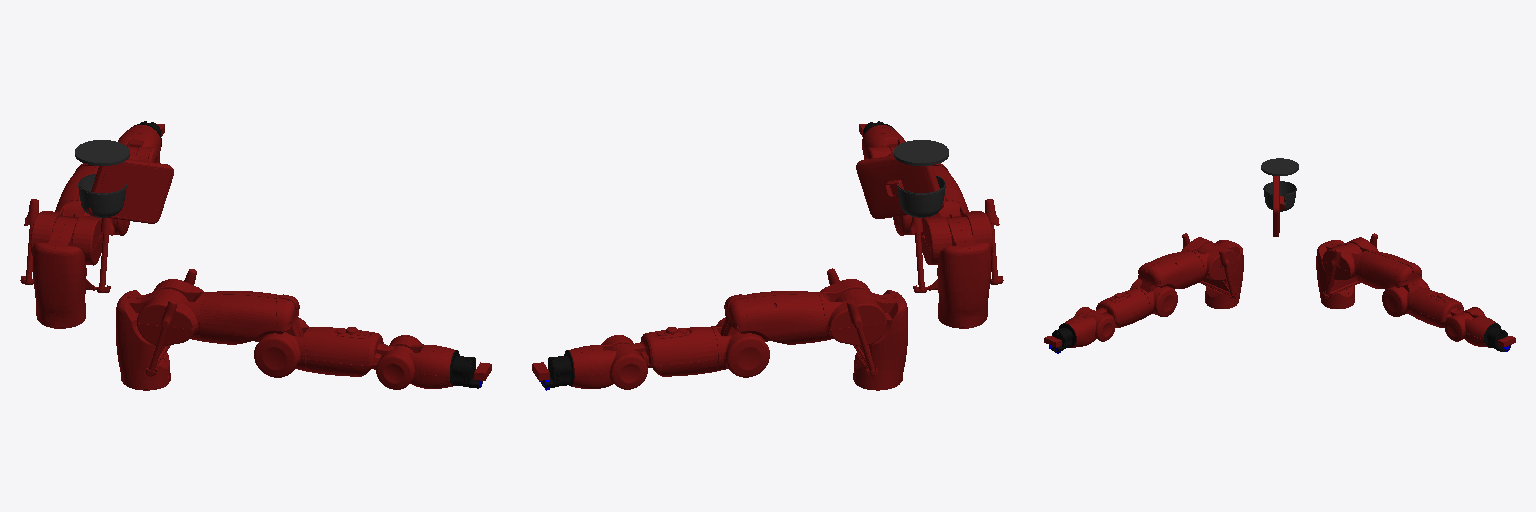
--- Facts derived from the render (not from the file) ---
Views: 3 orthographic renders of the robot side by side, from view 1: azimuth 30°, elevation 25°; view 2: azimuth 150°, elevation 25°; view 3: azimuth 270°, elevation 25°.
Robot: dv — 50 links, 49 joints (15 revolute, 34 fixed); root link base; default pose: all joints at 0.
Links seen in each view (by area): view 1: left_upper_shoulder, right_upper_elbow, right_upper_shoulder, screen, right_upper_forearm, right_lower_forearm, right_lower_shoulder, left_lower_shoulder, right_lower_elbow, head, sonar_ring, left_lower_forearm (+2 smaller); view 2: right_upper_shoulder, left_upper_elbow, left_upper_shoulder, left_upper_forearm, screen, left_lower_forearm, left_lower_shoulder, right_lower_shoulder, left_lower_elbow, sonar_ring, head, right_lower_forearm (+2 smaller); view 3: right_upper_elbow, left_upper_elbow, left_upper_shoulder, right_upper_shoulder, right_upper_forearm, left_upper_forearm, right_lower_forearm, left_lower_forearm, right_lower_shoulder, left_lower_shoulder, right_lower_elbow, left_lower_elbow (+2 smaller).
Boxes of the visible links, x1=… form: left_upper_shoulder: x1=20, y1=199, x2=114, y2=328; right_upper_elbow: x1=199, y1=291, x2=303, y2=344; right_upper_shoulder: x1=116, y1=269, x2=196, y2=390; screen: x1=87, y1=159, x2=173, y2=223; right_upper_forearm: x1=306, y1=327, x2=413, y2=376; right_lower_forearm: x1=376, y1=335, x2=454, y2=389; right_lower_shoulder: x1=137, y1=279, x2=206, y2=345; left_lower_shoulder: x1=31, y1=200, x2=102, y2=265; right_lower_elbow: x1=254, y1=317, x2=312, y2=377; head: x1=78, y1=174, x2=126, y2=217; sonar_ring: x1=75, y1=140, x2=129, y2=165; left_lower_forearm: x1=118, y1=125, x2=160, y2=162; right_upper_shoulder: x1=909, y1=199, x2=1003, y2=328; left_upper_elbow: x1=720, y1=291, x2=824, y2=344; left_upper_shoulder: x1=827, y1=268, x2=907, y2=390; left_upper_forearm: x1=609, y1=327, x2=717, y2=376; screen: x1=856, y1=155, x2=943, y2=218; left_lower_forearm: x1=569, y1=335, x2=647, y2=389; left_lower_shoulder: x1=817, y1=279, x2=886, y2=345; right_lower_shoulder: x1=921, y1=200, x2=992, y2=264; left_lower_elbow: x1=711, y1=317, x2=769, y2=377; sonar_ring: x1=894, y1=140, x2=948, y2=165; head: x1=896, y1=176, x2=945, y2=217; right_lower_forearm: x1=862, y1=125, x2=905, y2=158; right_upper_elbow: x1=1138, y1=251, x2=1203, y2=292; left_upper_elbow: x1=1356, y1=251, x2=1421, y2=292; left_upper_shoulder: x1=1316, y1=233, x2=1377, y2=308; right_upper_shoulder: x1=1182, y1=233, x2=1243, y2=308; right_upper_forearm: x1=1084, y1=288, x2=1149, y2=327; left_upper_forearm: x1=1410, y1=288, x2=1473, y2=327; right_lower_forearm: x1=1065, y1=307, x2=1115, y2=347; left_lower_forearm: x1=1444, y1=307, x2=1497, y2=347; right_lower_shoulder: x1=1181, y1=237, x2=1237, y2=280; left_lower_shoulder: x1=1322, y1=237, x2=1378, y2=281; right_lower_elbow: x1=1130, y1=278, x2=1177, y2=316; left_lower_elbow: x1=1382, y1=278, x2=1429, y2=316.
Size in the robot's own frame: 0.8912 by 2.11 by 0.6706 metres.
16 mesh visuals loaded from 11 distinct referenced files (9 binary STL); not drawn: 2 (reference not matched to a file when rendering).

The robot description file, URDF, robot "dv":
<?xml version="1.0" ?>
<!-- =================================================================================== -->
<!-- |    This document was autogenerated by xacro from dv.urdf.xacro                  | -->
<!-- |    EDITING THIS FILE BY HAND IS NOT RECOMMENDED                                 | -->
<!-- =================================================================================== -->
<robot name="dv" xmlns:controller="http://playerstage.sourceforge.net/gazebo/xmlschema/#controller" xmlns:interface="http://playerstage.sourceforge.net/gazebo/xmlschema/#interface" xmlns:sensor="http://playerstage.sourceforge.net/gazebo/xmlschema/#sensor" xmlns:xacro="http://playerstage.sourceforge.net/gazebo/xmlschema/#interface">
  <link name="base">
    <inertial>
      <origin rpy="0 0 0" xyz="0 0 0"/>
      <mass value="0"/>
      <inertia ixx="0" ixy="0" ixz="0" iyy="0" iyz="0" izz="0"/>
    </inertial>
  </link>
  <link name="torso">
    <visual>
      <origin rpy="0 0 0" xyz="0 0 0"/>
      <geometry>
        <!-- <box size="0.2 0.35 0.4" /> -->
        <mesh filename="package://baxter_description/meshes/torso/base_link.STL"/>
      </geometry>
      <material name="darkgray">
        <color rgba=".2 .2 .2 1"/>
      </material>
    </visual>
    <collision>
      <origin rpy="0 0 0" xyz="-0.065 0 0.0"/>
      <geometry>
        <cylinder length="0.7" radius="0.27"/>
      </geometry>
    </collision>
    <inertial>
      <origin rpy="0 0 0" xyz="0.000000 0.000000 0.000000"/>
      <mass value="0.000000"/>
      <inertia ixx="0" ixy="0" ixz="0" iyy="0" iyz="0" izz="0"/>
    </inertial>
  </link>
  <link name="left_torso_itb">
    <!-- note: invisible -->
    <!--
         <visual>
  	   <origin xyz="0 0 0" rpy="0 0 0" />
           <geometry>
             <box size=".059 0.118  0.032" />
           </geometry>
           <material name="white">
             <color rgba="1 1 1 1" />
           </material>
         </visual>
         -->
  </link>
  <link name="right_torso_itb">
    <!-- note: invisible -->
    <!--
         <visual>
  	   <origin xyz="0 0 0" rpy="0 0 0" />
           <geometry>
             <box size=".059 0.118  0.032" />
           </geometry>
           <material name="white">
             <color rgba="1 1 1 1" />
           </material>
         </visual>
         -->
  </link>
  <link name="pedestal">
    <visual>
      <origin rpy="0 0 0" xyz="0 0 0"/>
      <geometry>
        <mesh filename="package://baxter_description/meshes/base/PEDESTAL.STL"/>
      </geometry>
      <material name="darkgray">
        <color rgba=".2 .2 .2 1"/>
      </material>
    </visual>
    <collision>
      <origin rpy="0 0 0" xyz="0.0 0 0.0"/>
      <geometry>
        <cylinder length="0.7" radius="0.25"/>
      </geometry>
    </collision>
    <inertial>
      <origin rpy="0 0 0" xyz="0 0 0"/>
      <mass value="0"/>
      <inertia ixx="0" ixy="0" ixz="0" iyy="0" iyz="0" izz="0"/>
    </inertial>
  </link>
  <link name="head">
    <visual>
      <origin rpy="0 0 0" xyz="-.03477 0 .00953"/>
      <geometry>
        <!-- <cylinder length="0.04" radius="0.09"/> -->
        <mesh filename="package://baxter_description/meshes/head/H0.STL"/>
      </geometry>
      <material name="darkgray">
        <color rgba=".2 .2 .2 1"/>
      </material>
    </visual>
    <collision>
      <origin rpy="0 0 0" xyz="0.0 0 0.0"/>
      <geometry>
        <sphere radius="0.001"/>
      </geometry>
    </collision>
    <inertial>
      <origin rpy="0 0 0" xyz="0 0 0"/>
      <mass value="0"/>
      <inertia ixx="0" ixy="0" ixz="0" iyy="0" iyz="0" izz="0"/>
    </inertial>
  </link>
  <link name="sonar_ring">
    <visual>
      <origin rpy="0 0 0" xyz="-.0347 0 .00953"/>
      <geometry>
        <cylinder length="0.01" radius="0.085"/>
      </geometry>
      <material name="darkgray">
        <color rgba=".2 .2 .2 1"/>
      </material>
    </visual>
    <collision>
      <origin rpy="0 0 0" xyz="0.0 0 0.0"/>
      <geometry>
        <sphere radius="0.001"/>
      </geometry>
    </collision>
    <inertial>
      <origin rpy="0 0 0" xyz="0 0 0"/>
      <mass value="0"/>
      <inertia ixx="0" ixy="0" ixz="0" iyy="0" iyz="0" izz="0"/>
    </inertial>
  </link>
  <link name="screen">
    <visual>
      <origin rpy="0 -1.571 0" xyz="0 -.00953 -.0347"/>
      <geometry>
        <!-- <box size=".11 0.08  0.01"/> -->
        <mesh filename="package://baxter_description/meshes/head/H1.STL"/>
      </geometry>
      <material name="darkred">
        <color rgba=".5 .1 .1 1"/>
      </material>
    </visual>
    <collision>
      <origin rpy="0 0 0" xyz="0.0 0 0.0"/>
      <geometry>
        <sphere radius="0.001"/>
      </geometry>
    </collision>
    <inertial>
      <origin rpy="0 0 0" xyz="0 0 0"/>
      <mass value="0"/>
      <inertia ixx="0" ixy="0" ixz="0" iyy="0" iyz="0" izz="0"/>
    </inertial>
  </link>
  <link name="head_camera">
    <inertial>
      <origin rpy="0 0 0" xyz="0 0 0"/>
      <mass value="0"/>
      <inertia ixx="0" ixy="0" ixz="0" iyy="0" iyz="0" izz="0"/>
    </inertial>
  </link>
  <link name="dummyhead1">
    <inertial>
      <origin rpy="0 0 0" xyz="0 0 0"/>
      <mass value="0"/>
      <inertia ixx="0" ixy="0" ixz="0" iyy="0" iyz="0" izz="0"/>
    </inertial>
  </link>
  <link name="collision_head_link_1">
    <visual>
      <origin rpy="0 0 0" xyz="0 0 0"/>
      <geometry>
        <sphere radius="0.001"/>
      </geometry>
      <material name="red">
        <color rgba="0.8 0.3 0.3 0.3"/>
      </material>
    </visual>
    <collision>
      <origin rpy="0 0 0.0" xyz="-0.07 -0.04 0.0"/>
      <geometry>
        <!-- <cylinder radius="0.18" length="0.4" /> -->
        <sphere radius="0.22"/>
      </geometry>
    </collision>
    <inertial>
      <origin rpy="0 0 0" xyz="0 0 0"/>
      <mass value="0"/>
      <inertia ixx="0" ixy="0" ixz="0" iyy="0" iyz="0" izz="0"/>
    </inertial>
  </link>
  <link name="collision_head_link_2">
    <visual>
      <origin rpy="0 0 0" xyz="0 0 0"/>
      <geometry>
        <sphere radius="0.001"/>
      </geometry>
      <material name="red">
        <color rgba="0.8 0.3 0.3 0.3"/>
      </material>
    </visual>
    <collision>
      <!-- <origin xyz="0.0 0.03 0.02" rpy="0 0 0" /> -->
      <origin rpy="0 0 0" xyz="-0.07 0.04 0.00"/>
      <geometry>
        <!-- <box size="0.34 0.27 0.14" /> -->
        <sphere radius="0.22"/>
      </geometry>
    </collision>
    <inertial>
      <origin rpy="0 0 0" xyz="0 0 0"/>
      <mass value="0"/>
      <inertia ixx="0" ixy="0" ixz="0" iyy="0" iyz="0" izz="0"/>
    </inertial>
  </link>
  <joint name="collision_head_1" type="fixed">
    <origin rpy="0 0 0" xyz="0.11 0 0.75"/>
    <parent link="base"/>
    <child link="collision_head_link_1"/>
  </joint>
  <joint name="collision_head_2" type="fixed">
    <origin rpy="0 0 0" xyz="0.11 0 0.75"/>
    <parent link="base"/>
    <child link="collision_head_link_2"/>
  </joint>
  <joint name="dummy" type="fixed">
    <origin rpy="0 0 0" xyz="0 0 0"/>
    <parent link="head"/>
    <child link="dummyhead1"/>
  </joint>
  <joint name="torso_t0" type="fixed">
    <origin rpy="0 0 0" xyz="0 0 0"/>
    <parent link="base"/>
    <child link="torso"/>
    <limit effort="50000" lower="-3.01" upper="3.01" velocity="10000"/>
  </joint>
  <joint name="left_torso_itb_fixed" type="fixed">
    <origin rpy="-1.571 3.1415 0" xyz="-0.08897 0.15593 0.389125"/>
    <parent link="torso"/>
    <child link="left_torso_itb"/>
  </joint>
  <joint name="right_torso_itb_fixed" type="fixed">
    <origin rpy="1.571 0 0" xyz="-0.08897 -0.15593 0.389125"/>
    <parent link="torso"/>
    <child link="right_torso_itb"/>
  </joint>
  <joint name="pedestal_fixed" type="fixed">
    <origin rpy="0 0 0" xyz="0.0 0.0 0.0"/>
    <parent link="torso"/>
    <child link="pedestal"/>
  </joint>
  <joint name="head_pan" type="revolute">
    <origin rpy="0 0 0" xyz="0.0947 0 0.686"/>
    <axis xyz="0 0 1"/>
    <parent link="torso"/>
    <child link="head"/>
    <limit effort="50000" lower="-1.571" upper="1.571" velocity="10000"/>
    <dynamics damping="0.0" friction="0.0"/>
  </joint>
  <joint name="head_nod" type="fixed">
    <origin rpy="1.9198622 0.0 1.571" xyz=".088 0.0 0.0"/>
    <parent link="head"/>
    <child link="screen"/>
  </joint>
  <joint name="head_camera" type="fixed">
    <origin rpy="1.9198622 0.0 1.571" xyz="0.12839 0.0 0.06368"/>
    <parent link="head"/>
    <child link="head_camera"/>
  </joint>
  <joint name="sonar_s0" type="fixed">
    <origin rpy="0 0 0" xyz="0.0947 0 .817"/>
    <axis xyz="0 0 1"/>
    <parent link="torso"/>
    <child link="sonar_ring"/>
  </joint>
  <link name="right_arm_mount">
    <!-- all defaults -->
  </link>
  <link name="right_upper_shoulder">
    <visual>
      <origin rpy="0 0 0" xyz="0 0 0"/>
      <geometry>
        <!-- <cylinder radius="0.06" length="0.2722" /> -->
        <mesh filename="package://baxter_description/meshes/upper_shoulder/S0.STL"/>
      </geometry>
      <material name="darkred">
        <color rgba=".5 .1 .1 1"/>
      </material>
    </visual>
    <collision>
      <origin rpy="0 0 0" xyz="0 0 0"/>
      <geometry>
        <cylinder length="0.22" radius="0.15"/>
      </geometry>
    </collision>
    <inertial>
      <origin rpy="0 0 0" xyz="0.01783 0.00086 0.19127"/>
      <mass value="5.70044"/>
      <inertia ixx="0.04709102262" ixy="0.00012787556" ixz="0.00614870039" iyy="0.03766976455" iyz="0.00078086899" izz="0.03595988478"/>
    </inertial>
  </link>
  <link name="right_lower_shoulder">
    <visual>
      <origin rpy="0 0 0" xyz="0 0 0"/>
      <geometry>
        <!-- <cylinder radius="0.06" length="0.12" /> -->
        <mesh filename="package://baxter_description/meshes/lower_shoulder/S1.STL"/>
      </geometry>
      <material name="darkred">
        <color rgba=".5 .1 .1 1"/>
      </material>
    </visual>
    <inertial>
      <origin rpy="0 0 0" xyz="0.06845 0.00269 -0.00529"/>
      <mass value="3.22698"/>
      <inertia ixx="0.01175209419" ixy="-0.00030096398" ixz="0.00207675762" iyy="0.0278859752" iyz="-0.00018821993" izz="0.02078749298"/>
    </inertial>
  </link>
  <link name="right_upper_elbow">
    <visual>
      <origin rpy="0 0 0" xyz="0 0 0"/>
      <geometry>
        <!-- <cylinder radius="0.06" length="0.107" /> -->
        <mesh filename="package://baxter_description/meshes/upper_elbow/E0.STL"/>
      </geometry>
      <material name="darkred">
        <color rgba=".5 .1 .1 1"/>
      </material>
    </visual>
    <collision>
      <origin rpy="0 0 0" xyz="0 0 0"/>
      <geometry>
        <cylinder length="0.05" radius="0.14"/>
      </geometry>
    </collision>
    <inertial>
      <origin rpy="0 0 0" xyz="-0.00276 0.00132 0.18086"/>
      <mass value="4.31272"/>
      <inertia ixx="0.02661733557" ixy="0.00029270634" ixz="0.00392189887" iyy="0.02844355207" iyz="0.0010838933" izz="0.01248008322"/>
    </inertial>
  </link>
  <link name="right_upper_elbow_visual">
    <collision>
      <origin rpy="0 0 0" xyz="0 0 0.1965"/>
      <geometry>
        <cylinder length="0.03" radius="0.12"/>
      </geometry>
    </collision>
  </link>
  <link name="right_lower_elbow">
    <visual>
      <origin rpy="0 0 0" xyz="0 0 0"/>
      <geometry>
        <!-- <cylinder radius="0.06" length="0.10" /> -->
        <mesh filename="package://baxter_description/meshes/lower_elbow/E1.STL"/>
      </geometry>
      <material name="darkred">
        <color rgba=".5 .1 .1 1"/>
      </material>
    </visual>
    <collision>
      <origin rpy="0 0 0" xyz="-0.06 0.0 0.0"/>
      <geometry>
        <sphere radius="0.12"/>
      </geometry>
    </collision>
    <inertial>
      <origin rpy="0 0 0" xyz="0.02611 0.00159 -0.01117"/>
      <mass value="2.07206"/>
      <inertia ixx="0.00711582686" ixy="0.00036036173" ixz="0.0007459496" iyy="0.01318227876" iyz="-0.00019663418" izz="0.00926852064"/>
    </inertial>
  </link>
  <link name="right_lower_elbow_highspeed_collision">
    <visual>
      <origin rpy="0 0 0" xyz="0 0 0"/>
      <geometry>
        <cylinder length="0.001" radius="0.001"/>
      </geometry>
      <material name="darkred">
        <color rgba=".5 .1 .1 1"/>
      </material>
    </visual>
    <collision>
      <origin rpy="0 0 0" xyz="0.0 0.0 0.0"/>
      <geometry>
        <sphere radius="0.2"/>
      </geometry>
    </collision>
    <inertial>
      <origin rpy="0 0 0" xyz="0.0 0.0 0.0"/>
      <mass value="0.0"/>
      <inertia ixx="0" ixy="0" ixz="0" iyy="0" iyz="0" izz="0"/>
    </inertial>
  </link>
  <link name="right_upper_forearm">
    <visual>
      <origin rpy="0 0 0" xyz="0 0 0"/>
      <geometry>
        <!-- <cylinder radius="0.06" length="0.088" /> -->
        <mesh filename="package://baxter_description/meshes/upper_forearm/W0.STL"/>
      </geometry>
      <material name="darkred">
        <color rgba=".5 .1 .1 1"/>
      </material>
    </visual>
    <inertial>
      <origin rpy="0 0 0" xyz="-0.00168 0.0046 0.13952"/>
      <mass value="2.24665"/>
      <inertia ixx="0.01667742825" ixy="0.00018403705" ixz="0.00018657629" iyy="0.01675457264" iyz="-0.00064732352" izz="0.0037463115"/>
    </inertial>
  </link>
  <link name="right_upper_forearm_visual">
    <collision>
      <origin rpy="0 0 0" xyz="0 0 0.10"/>
      <geometry>
        <cylinder length="0.12" radius="0.12"/>
      </geometry>
    </collision>
  </link>
  <link name="right_arm_itb">
    <!-- note: invisible -->
    <!--
         <visual>
  	   <origin xyz="0 0 0" rpy="0 0 0" />
           <geometry>
             <box size=".059 0.118  0.032" />
           </geometry>
           <material name="white">
             <color rgba="1 1 1 1" />
           </material>
         </visual>
         -->
  </link>
  <link name="right_lower_forearm">
    <visual>
      <origin rpy="0 0 0" xyz="0 0 0"/>
      <geometry>
        <!-- <cylinder radius="0.06" length="0.10" /> -->
        <mesh filename="package://baxter_description/meshes/lower_forearm/W1.STL"/>
      </geometry>
      <material name="darkred">
        <color rgba=".5 .1 .1 1"/>
      </material>
    </visual>
    <collision>
      <origin rpy="0 0 0" xyz="0 0 0"/>
      <geometry>
        <cylinder length="0.01" radius="0.12"/>
      </geometry>
    </collision>
    <inertial>
      <origin rpy="0 0 0" xyz="0.06041 0.00697 0.006"/>
      <mass value="1.60979"/>
      <inertia ixx="0.00387607152" ixy="-0.00044384784" ixz="-0.00021115038" iyy="0.00700537914" iyz="0.00015348067" izz="0.0055275524"/>
    </inertial>
  </link>
  <link name="right_lower_forearm_highspeed_collision">
    <visual>
      <origin rpy="0 0 0" xyz="0 0 0"/>
      <geometry>
        <cylinder length="0.001" radius="0.001"/>
      </geometry>
      <material name="darkred">
        <color rgba=".5 .1 .1 1"/>
      </material>
    </visual>
    <collision>
      <origin rpy="0 0 0" xyz="0 0 0"/>
      <geometry>
        <cylinder length="0.01" radius="0.2"/>
      </geometry>
    </collision>
    <inertial>
      <origin rpy="0 0 0" xyz="0.0 0.0 0.0"/>
      <mass value="0.0"/>
      <inertia ixx="0" ixy="0" ixz="0" iyy="0" iyz="0" izz="0"/>
    </inertial>
  </link>
  <link name="right_wrist">
    <visual>
      <origin rpy="0 0 0" xyz="0 0 0"/>
      <geometry>
        <!-- <cylinder radius="0.06" length="0.165" /> -->
        <mesh filename="package://baxter_description/meshes/wrist/W2.STL"/>
      </geometry>
      <material name="lightgrey">
        <color rgba=".1 .1 .1 1"/>
      </material>
    </visual>
    <collision>
      <origin rpy="0 0 0" xyz="0 0 0"/>
      <geometry>
        <cylinder length="0.04" radius="0.12"/>
      </geometry>
    </collision>
    <inertial>
      <origin rpy="0 0 0" xyz="0.00198 0.00125 0.01855"/>
      <mass value="0.35093"/>
      <inertia ixx="0.00025289155" ixy="0.00000575311" ixz="-0.00000159345" iyy="0.0002688601" iyz="-0.00000519818" izz="0.0003074118"/>
    </inertial>
  </link>
  <link name="right_wrist_highspeed_collision">
    <visual>
      <origin rpy="0 0 0" xyz="0 0 -0.0825"/>
      <geometry>
        <cylinder length="0.001" radius="0.001"/>
      </geometry>
      <material name="darkred">
        <color rgba=".5 .1 .1 1"/>
      </material>
    </visual>
    <collision>
      <origin rpy="0 0 0" xyz="0 0 0"/>
      <geometry>
        <cylinder length="0.04" radius="0.2"/>
      </geometry>
    </collision>
    <inertial>
      <origin rpy="0 0 0" xyz="0.0 0.0 0.0"/>
      <mass value="0.0"/>
      <inertia ixx="0" ixy="0" ixz="0" iyy="0" iyz="0" izz="0"/>
    </inertial>
  </link>
  <link name="right_hand">
    <!-- rendered in the mesh
      <visual>
        <origin xyz="0 0 -0.0232" rpy="0 0 0" />
        <geometry>
          <cylinder radius="0.04" length="0.0464" />
        </geometry>
        <material name="darkred">
          <color rgba=".5 .1 .1 1" />
        </material>
      </visual>
      -->
    <collision>
      <origin rpy="0 0 0" xyz="0 0 -0.0232 "/>
      <geometry>
        <cylinder length="0.04" radius="0.1"/>
      </geometry>
    </collision>
    <inertial>
      <origin rpy="0 0 0" xyz="0.01093 0.00042 -0.01532"/>
      <mass value="0.19125"/>
      <inertia ixx="0.00017588" ixy="0.00000147073" ixz="0.0000243633" iyy="0.00021166377" iyz="0.00000172689" izz="0.00023745397"/>
    </inertial>
  </link>
  <link name="right_hand_camera">
    <visual>
      <origin rpy="0 0 0" xyz="0 0 0"/>
      <geometry>
        <cylinder length="0.01" radius="0.02"/>
      </geometry>
      <material name="blue">
        <color rgba="0 0 1 0.8"/>
      </material>
    </visual>
    <inertial>
      <origin rpy="0 0 0" xyz="0 0 0"/>
      <mass value="0"/>
      <inertia ixx="0" ixy="0" ixz="0" iyy="0" iyz="0" izz="0"/>
    </inertial>
  </link>
  <link name="right_hand_camera_axis">
    <!--visual>
        <origin xyz="0 0 0" rpy="0 0 0" />
        <geometry>
          <cylinder radius="0.02" length="0.01" />
        </geometry>
        <material name="blue">
          <color rgba="0 0 1 0.8" />
        </material>
      </visual-->
    <inertial>
      <origin rpy="0 0 0" xyz="0 0 0"/>
      <mass value="0"/>
      <inertia ixx="0" ixy="0" ixz="0" iyy="0" iyz="0" izz="0"/>
    </inertial>
  </link>
  <link name="right_hand_range">
    <visual>
      <origin rpy="0 0 0" xyz="0 0 0"/>
      <geometry>
        <box size="0.005 .02 .005"/>
      </geometry>
      <material name="blue">
        <color rgba="0 0 1 0.8"/>
      </material>
    </visual>
    <inertial>
      <origin rpy="0 0 0" xyz="0 0 0"/>
      <mass value="0"/>
      <inertia ixx="0" ixy="0" ixz="0" iyy="0" iyz="0" izz="0"/>
    </inertial>
  </link>
  <link name="right_gripper">
    <visual>
      <origin rpy="0 0 0" xyz="0 0 -0.02"/>
      <geometry>
        <box size="0.025 0.075 0.035"/>
      </geometry>
      <material name="darkred">
        <color rgba=".5 .1 .1 1"/>
      </material>
    </visual>
    <inertial>
      <origin rpy="0 0 0" xyz="0.000000 0.000000 0.000000"/>
      <mass value="0.0"/>
      <inertia ixx="0" ixy="0" ixz="0" iyy="0" iyz="0" izz="0"/>
    </inertial>
  </link>
  <joint name="right_torso_arm_mount" type="fixed">
    <origin rpy="0 0 -0.7854" xyz="0.024645 -0.219645 0.118588"/>
    <parent link="torso"/>
    <child link="right_arm_mount"/>
  </joint>
  <joint name="right_s0" type="revolute">
    <origin rpy="0 0 0" xyz="0.055695 0 0.011038"/>
    <axis xyz="0 0 1"/>
    <parent link="right_arm_mount"/>
    <child link="right_upper_shoulder"/>
    <limit effort="60.0" lower="-1.70167993878" upper="1.70167993878" velocity="2.5"/>
    <dynamics damping="0.0" friction="0.0"/>
  </joint>
  <joint name="right_s1" type="revolute">
    <origin rpy="-1.571 0 0" xyz="0.069 0 0.27035"/>
    <axis xyz="0 0 1"/>
    <parent link="right_upper_shoulder"/>
    <child link="right_lower_shoulder"/>
    <limit effort="60.0" lower="-2.147" upper="1.047" velocity="2.5"/>
    <dynamics damping="0.0" friction="0.0"/>
  </joint>
  <joint name="right_e0" type="revolute">
    <origin rpy="1.571 0 1.571" xyz="0.102 0 0"/>
    <axis xyz="0 0 1"/>
    <parent link="right_lower_shoulder"/>
    <child link="right_upper_elbow"/>
    <limit effort="60.0" lower="-3.05417993878" upper="3.05417993878" velocity="2.5"/>
    <dynamics damping="0.0" friction="0.0"/>
  </joint>
  <joint name="right_e0_fixed" type="fixed">
    <origin rpy="1.571 0 1.571" xyz="0.107 0 0"/>
    <axis xyz="0 0 1"/>
    <parent link="right_lower_shoulder"/>
    <child link="right_upper_elbow_visual"/>
  </joint>
  <joint name="right_e1" type="revolute">
    <origin rpy="-1.571 -1.571 0" xyz="0.069 0 0.26242"/>
    <axis xyz="0 0 1"/>
    <parent link="right_upper_elbow"/>
    <child link="right_lower_elbow"/>
    <limit effort="60.0" lower="-0.05" upper="2.618" velocity="2.5"/>
    <dynamics damping="0.0" friction="0.0"/>
  </joint>
  <joint name="right_e1_fixed" type="fixed">
    <origin rpy="-1.571 -1.3819 0" xyz="0.069 0 0.25386"/>
    <axis xyz="0 0 1"/>
    <parent link="right_upper_elbow"/>
    <child link="right_lower_elbow_highspeed_collision"/>
  </joint>
  <joint name="right_w0" type="revolute">
    <origin rpy="1.571 0 1.571" xyz="0.10359 0 0"/>
    <axis xyz="0 0 1"/>
    <parent link="right_lower_elbow"/>
    <child link="right_upper_forearm"/>
    <limit effort="20.0" lower="-3.059" upper="3.059" velocity="5.0"/>
    <dynamics damping="0.0" friction="0.0"/>
  </joint>
  <joint name="right_w0_fixed" type="fixed">
    <origin rpy="1.571 0 1.571" xyz="0.088 0 0"/>
    <axis xyz="0 0 1"/>
    <parent link="right_lower_elbow"/>
    <child link="right_upper_forearm_visual"/>
  </joint>
  <joint name="right_w0_to_itb_fixed" type="fixed">
    <!-- <origin xyz="-0.0565 0 0.1301" rpy="-1.571 0 1.571" /> -->
    <origin rpy="-1.571 0 1.571" xyz="-0.0565 0 0.12"/>
    <axis xyz="0 0 1"/>
    <parent link="right_upper_forearm"/>
    <child link="right_arm_itb"/>
  </joint>
  <joint name="right_w1" type="revolute">
    <origin rpy="-1.571 -1.571 0" xyz="0.01 0 0.2707"/>
    <axis xyz="0 0 1"/>
    <parent link="right_upper_forearm"/>
    <child link="right_lower_forearm"/>
    <limit effort="20.0" lower="-1.571" upper="2.094" velocity="5.0"/>
    <dynamics damping="0.0" friction="0.0"/>
  </joint>
  <joint name="right_w1_fixed" type="fixed">
    <origin rpy="-1.571 -1.571 0" xyz="0.01 0 0.27186"/>
    <axis xyz="0 0 1"/>
    <parent link="right_upper_forearm"/>
    <child link="right_lower_forearm_highspeed_collision"/>
  </joint>
  <joint name="right_w2" type="revolute">
    <origin rpy="1.571 0 1.571" xyz="0.115975 0 0"/>
    <axis xyz="0 0 1"/>
    <parent link="right_lower_forearm"/>
    <child link="right_wrist"/>
    <limit effort="20.0" lower="-3.059" upper="3.059" velocity="5.0"/>
    <dynamics damping="0.0" friction="0.0"/>
  </joint>
  <joint name="right_w2_fixed" type="fixed">
    <origin rpy="1.571 0 1.571" xyz="0.16555 0 0"/>
    <axis xyz="0 0 1"/>
    <parent link="right_lower_forearm"/>
    <child link="right_wrist_highspeed_collision"/>
  </joint>
  <joint name="right_hand" type="fixed">
    <origin rpy="0 0 0" xyz="0 0 0.11355"/>
    <axis xyz="0 0 1"/>
    <parent link="right_wrist"/>
    <child link="right_hand"/>
    <dynamics damping="0.0" friction="0.0"/>
  </joint>
  <joint name="right_hand_camera" type="fixed">
    <origin rpy="0 0 -1.57079633" xyz="0.03825 0.012 0.015355"/>
    <parent link="right_hand"/>
    <child link="right_hand_camera"/>
  </joint>
  <joint name="right_hand_camera_axis" type="fixed">
    <origin rpy="0 0 0" xyz="0.03825 0.012 0.015355"/>
    <parent link="right_hand"/>
    <child link="right_hand_camera_axis"/>
  </joint>
  <joint name="right_hand_range" type="fixed">
    <origin rpy="0 -1.571 -1.571" xyz="0.032 -0.020245 0.0288"/>
    <parent link="right_hand"/>
    <child link="right_hand_range"/>
  </joint>
  <joint name="right_endpoint" type="fixed">
    <origin rpy="0 0 0" xyz="0.0 0 0.05"/>
    <parent link="right_hand"/>
    <child link="right_gripper"/>
  </joint>
  <link name="left_arm_mount">
    <!-- all defaults -->
  </link>
  <link name="left_upper_shoulder">
    <visual>
      <origin rpy="0 0 0" xyz="0 0 0"/>
      <geometry>
        <!-- <cylinder radius="0.06" length="0.2722" /> -->
        <mesh filename="package://baxter_description/meshes/upper_shoulder/S0.STL"/>
      </geometry>
      <material name="darkred">
        <color rgba=".5 .1 .1 1"/>
      </material>
    </visual>
    <collision>
      <origin rpy="0 0 0" xyz="0 0 0"/>
      <geometry>
        <cylinder length="0.22" radius="0.15"/>
      </geometry>
    </collision>
    <inertial>
      <origin rpy="0 0 0" xyz="0.01783 0.00086 0.19127"/>
      <mass value="5.70044"/>
      <inertia ixx="0.04709102262" ixy="0.00012787556" ixz="0.00614870039" iyy="0.03766976455" iyz="0.00078086899" izz="0.03595988478"/>
    </inertial>
  </link>
  <link name="left_lower_shoulder">
    <visual>
      <origin rpy="0 0 0" xyz="0 0 0"/>
      <geometry>
        <!-- <cylinder radius="0.06" length="0.12" /> -->
        <mesh filename="package://baxter_description/meshes/lower_shoulder/S1.STL"/>
      </geometry>
      <material name="darkred">
        <color rgba=".5 .1 .1 1"/>
      </material>
    </visual>
    <inertial>
      <origin rpy="0 0 0" xyz="0.06845 0.00269 -0.00529"/>
      <mass value="3.22698"/>
      <inertia ixx="0.01175209419" ixy="-0.00030096398" ixz="0.00207675762" iyy="0.0278859752" iyz="-0.00018821993" izz="0.02078749298"/>
    </inertial>
  </link>
  <link name="left_upper_elbow">
    <visual>
      <origin rpy="0 0 0" xyz="0 0 0"/>
      <geometry>
        <!-- <cylinder radius="0.06" length="0.107" /> -->
        <mesh filename="package://baxter_description/meshes/upper_elbow/E0.STL"/>
      </geometry>
      <material name="darkred">
        <color rgba=".5 .1 .1 1"/>
      </material>
    </visual>
    <collision>
      <origin rpy="0 0 0" xyz="0 0 0"/>
      <geometry>
        <cylinder length="0.05" radius="0.14"/>
      </geometry>
    </collision>
    <inertial>
      <origin rpy="0 0 0" xyz="-0.00276 0.00132 0.18086"/>
      <mass value="4.31272"/>
      <inertia ixx="0.02661733557" ixy="0.00029270634" ixz="0.00392189887" iyy="0.02844355207" iyz="0.0010838933" izz="0.01248008322"/>
    </inertial>
  </link>
  <link name="left_upper_elbow_visual">
    <collision>
      <origin rpy="0 0 0" xyz="0 0 0.1965"/>
      <geometry>
        <cylinder length="0.03" radius="0.12"/>
      </geometry>
    </collision>
  </link>
  <link name="left_lower_elbow">
    <visual>
      <origin rpy="0 0 0" xyz="0 0 0"/>
      <geometry>
        <!-- <cylinder radius="0.06" length="0.10" /> -->
        <mesh filename="package://baxter_description/meshes/lower_elbow/E1.STL"/>
      </geometry>
      <material name="darkred">
        <color rgba=".5 .1 .1 1"/>
      </material>
    </visual>
    <collision>
      <origin rpy="0 0 0" xyz="-0.06 0.0 0.0"/>
      <geometry>
        <sphere radius="0.12"/>
      </geometry>
    </collision>
    <inertial>
      <origin rpy="0 0 0" xyz="0.02611 0.00159 -0.01117"/>
      <mass value="2.07206"/>
      <inertia ixx="0.00711582686" ixy="0.00036036173" ixz="0.0007459496" iyy="0.01318227876" iyz="-0.00019663418" izz="0.00926852064"/>
    </inertial>
  </link>
  <link name="left_lower_elbow_highspeed_collision">
    <visual>
      <origin rpy="0 0 0" xyz="0 0 0"/>
      <geometry>
        <cylinder length="0.001" radius="0.001"/>
      </geometry>
      <material name="darkred">
        <color rgba=".5 .1 .1 1"/>
      </material>
    </visual>
    <collision>
      <origin rpy="0 0 0" xyz="0.0 0.0 0.0"/>
      <geometry>
        <sphere radius="0.2"/>
      </geometry>
    </collision>
    <inertial>
      <origin rpy="0 0 0" xyz="0.0 0.0 0.0"/>
      <mass value="0.0"/>
      <inertia ixx="0" ixy="0" ixz="0" iyy="0" iyz="0" izz="0"/>
    </inertial>
  </link>
  <link name="left_upper_forearm">
    <visual>
      <origin rpy="0 0 0" xyz="0 0 0"/>
      <geometry>
        <!-- <cylinder radius="0.06" length="0.088" /> -->
        <mesh filename="package://baxter_description/meshes/upper_forearm/W0.STL"/>
      </geometry>
      <material name="darkred">
        <color rgba=".5 .1 .1 1"/>
      </material>
    </visual>
    <inertial>
      <origin rpy="0 0 0" xyz="-0.00168 0.0046 0.13952"/>
      <mass value="2.24665"/>
      <inertia ixx="0.01667742825" ixy="0.00018403705" ixz="0.00018657629" iyy="0.01675457264" iyz="-0.00064732352" izz="0.0037463115"/>
    </inertial>
  </link>
  <link name="left_upper_forearm_visual">
    <collision>
      <origin rpy="0 0 0" xyz="0 0 0.10"/>
      <geometry>
        <cylinder length="0.12" radius="0.12"/>
      </geometry>
    </collision>
  </link>
  <link name="left_arm_itb">
    <!-- note: invisible -->
    <!--
         <visual>
  	   <origin xyz="0 0 0" rpy="0 0 0" />
           <geometry>
             <box size=".059 0.118  0.032" />
           </geometry>
           <material name="white">
             <color rgba="1 1 1 1" />
           </material>
         </visual>
         -->
  </link>
  <link name="left_lower_forearm">
    <visual>
      <origin rpy="0 0 0" xyz="0 0 0"/>
      <geometry>
        <!-- <cylinder radius="0.06" length="0.10" /> -->
        <mesh filename="package://baxter_description/meshes/lower_forearm/W1.STL"/>
      </geometry>
      <material name="darkred">
        <color rgba=".5 .1 .1 1"/>
      </material>
    </visual>
    <collision>
      <origin rpy="0 0 0" xyz="0 0 0"/>
      <geometry>
        <cylinder length="0.01" radius="0.12"/>
      </geometry>
    </collision>
    <inertial>
      <origin rpy="0 0 0" xyz="0.06041 0.00697 0.006"/>
      <mass value="1.60979"/>
      <inertia ixx="0.00387607152" ixy="-0.00044384784" ixz="-0.00021115038" iyy="0.00700537914" iyz="0.00015348067" izz="0.0055275524"/>
    </inertial>
  </link>
  <link name="left_lower_forearm_highspeed_collision">
    <visual>
      <origin rpy="0 0 0" xyz="0 0 0"/>
      <geometry>
        <cylinder length="0.001" radius="0.001"/>
      </geometry>
      <material name="darkred">
        <color rgba=".5 .1 .1 1"/>
      </material>
    </visual>
    <collision>
      <origin rpy="0 0 0" xyz="0 0 0"/>
      <geometry>
        <cylinder length="0.01" radius="0.2"/>
      </geometry>
    </collision>
    <inertial>
      <origin rpy="0 0 0" xyz="0.0 0.0 0.0"/>
      <mass value="0.0"/>
      <inertia ixx="0" ixy="0" ixz="0" iyy="0" iyz="0" izz="0"/>
    </inertial>
  </link>
  <link name="left_wrist">
    <visual>
      <origin rpy="0 0 0" xyz="0 0 0"/>
      <geometry>
        <!-- <cylinder radius="0.06" length="0.165" /> -->
        <mesh filename="package://baxter_description/meshes/wrist/W2.STL"/>
      </geometry>
      <material name="lightgrey">
        <color rgba=".1 .1 .1 1"/>
      </material>
    </visual>
    <collision>
      <origin rpy="0 0 0" xyz="0 0 0"/>
      <geometry>
        <cylinder length="0.04" radius="0.12"/>
      </geometry>
    </collision>
    <inertial>
      <origin rpy="0 0 0" xyz="0.00198 0.00125 0.01855"/>
      <mass value="0.35093"/>
      <inertia ixx="0.00025289155" ixy="0.00000575311" ixz="-0.00000159345" iyy="0.0002688601" iyz="-0.00000519818" izz="0.0003074118"/>
    </inertial>
  </link>
  <link name="left_wrist_highspeed_collision">
    <visual>
      <origin rpy="0 0 0" xyz="0 0 -0.0825"/>
      <geometry>
        <cylinder length="0.001" radius="0.001"/>
      </geometry>
      <material name="darkred">
        <color rgba=".5 .1 .1 1"/>
      </material>
    </visual>
    <collision>
      <origin rpy="0 0 0" xyz="0 0 0"/>
      <geometry>
        <cylinder length="0.04" radius="0.2"/>
      </geometry>
    </collision>
    <inertial>
      <origin rpy="0 0 0" xyz="0.0 0.0 0.0"/>
      <mass value="0.0"/>
      <inertia ixx="0" ixy="0" ixz="0" iyy="0" iyz="0" izz="0"/>
    </inertial>
  </link>
  <link name="left_hand">
    <!-- rendered in the mesh
      <visual>
        <origin xyz="0 0 -0.0232" rpy="0 0 0" />
        <geometry>
          <cylinder radius="0.04" length="0.0464" />
        </geometry>
        <material name="darkred">
          <color rgba=".5 .1 .1 1" />
        </material>
      </visual>
      -->
    <collision>
      <origin rpy="0 0 0" xyz="0 0 -0.0232 "/>
      <geometry>
        <cylinder length="0.04" radius="0.1"/>
      </geometry>
    </collision>
    <inertial>
      <origin rpy="0 0 0" xyz="0.01093 0.00042 -0.01532"/>
      <mass value="0.19125"/>
      <inertia ixx="0.00017588" ixy="0.00000147073" ixz="0.0000243633" iyy="0.00021166377" iyz="0.00000172689" izz="0.00023745397"/>
    </inertial>
  </link>
  <link name="left_hand_camera">
    <visual>
      <origin rpy="0 0 0" xyz="0 0 0"/>
      <geometry>
        <cylinder length="0.01" radius="0.02"/>
      </geometry>
      <material name="blue">
        <color rgba="0 0 1 0.8"/>
      </material>
    </visual>
    <inertial>
      <origin rpy="0 0 0" xyz="0 0 0"/>
      <mass value="0"/>
      <inertia ixx="0" ixy="0" ixz="0" iyy="0" iyz="0" izz="0"/>
    </inertial>
  </link>
  <link name="left_hand_camera_axis">
    <!--visual>
        <origin xyz="0 0 0" rpy="0 0 0" />
        <geometry>
          <cylinder radius="0.02" length="0.01" />
        </geometry>
        <material name="blue">
          <color rgba="0 0 1 0.8" />
        </material>
      </visual-->
    <inertial>
      <origin rpy="0 0 0" xyz="0 0 0"/>
      <mass value="0"/>
      <inertia ixx="0" ixy="0" ixz="0" iyy="0" iyz="0" izz="0"/>
    </inertial>
  </link>
  <link name="left_hand_range">
    <visual>
      <origin rpy="0 0 0" xyz="0 0 0"/>
      <geometry>
        <box size="0.005 .02 .005"/>
      </geometry>
      <material name="blue">
        <color rgba="0 0 1 0.8"/>
      </material>
    </visual>
    <inertial>
      <origin rpy="0 0 0" xyz="0 0 0"/>
      <mass value="0"/>
      <inertia ixx="0" ixy="0" ixz="0" iyy="0" iyz="0" izz="0"/>
    </inertial>
  </link>
  <link name="left_gripper">
    <visual>
      <origin rpy="0 0 0" xyz="0 0 -0.02"/>
      <geometry>
        <box size="0.025 0.075 0.035"/>
      </geometry>
      <material name="darkred">
        <color rgba=".5 .1 .1 1"/>
      </material>
    </visual>
    <inertial>
      <origin rpy="0 0 0" xyz="0.000000 0.000000 0.000000"/>
      <mass value="0.0"/>
      <inertia ixx="0" ixy="0" ixz="0" iyy="0" iyz="0" izz="0"/>
    </inertial>
  </link>
  <joint name="left_torso_arm_mount" type="fixed">
    <origin rpy="0 0 0.7854" xyz="0.024645 0.219645 0.118588"/>
    <parent link="torso"/>
    <child link="left_arm_mount"/>
  </joint>
  <joint name="left_s0" type="revolute">
    <origin rpy="0 0 0" xyz="0.055695 0 0.011038"/>
    <axis xyz="0 0 1"/>
    <parent link="left_arm_mount"/>
    <child link="left_upper_shoulder"/>
    <limit effort="60.0" lower="-1.70167993878" upper="1.70167993878" velocity="2.5"/>
    <dynamics damping="0.0" friction="0.0"/>
  </joint>
  <joint name="left_s1" type="revolute">
    <origin rpy="-1.571 0 0" xyz="0.069 0 0.27035"/>
    <axis xyz="0 0 1"/>
    <parent link="left_upper_shoulder"/>
    <child link="left_lower_shoulder"/>
    <limit effort="60.0" lower="-2.147" upper="1.047" velocity="2.5"/>
    <dynamics damping="0.0" friction="0.0"/>
  </joint>
  <joint name="left_e0" type="revolute">
    <origin rpy="1.571 0 1.571" xyz="0.102 0 0"/>
    <axis xyz="0 0 1"/>
    <parent link="left_lower_shoulder"/>
    <child link="left_upper_elbow"/>
    <limit effort="60.0" lower="-3.05417993878" upper="3.05417993878" velocity="2.5"/>
    <dynamics damping="0.0" friction="0.0"/>
  </joint>
  <joint name="left_e0_fixed" type="fixed">
    <origin rpy="1.571 0 1.571" xyz="0.107 0 0"/>
    <axis xyz="0 0 1"/>
    <parent link="left_lower_shoulder"/>
    <child link="left_upper_elbow_visual"/>
  </joint>
  <joint name="left_e1" type="revolute">
    <origin rpy="-1.571 -1.571 0" xyz="0.069 0 0.26242"/>
    <axis xyz="0 0 1"/>
    <parent link="left_upper_elbow"/>
    <child link="left_lower_elbow"/>
    <limit effort="60.0" lower="-0.05" upper="2.618" velocity="2.5"/>
    <dynamics damping="0.0" friction="0.0"/>
  </joint>
  <joint name="left_e1_fixed" type="fixed">
    <origin rpy="-1.571 -1.3819 0" xyz="0.069 0 0.25386"/>
    <axis xyz="0 0 1"/>
    <parent link="left_upper_elbow"/>
    <child link="left_lower_elbow_highspeed_collision"/>
  </joint>
  <joint name="left_w0" type="revolute">
    <origin rpy="1.571 0 1.571" xyz="0.10359 0 0"/>
    <axis xyz="0 0 1"/>
    <parent link="left_lower_elbow"/>
    <child link="left_upper_forearm"/>
    <limit effort="20.0" lower="-3.059" upper="3.059" velocity="5.0"/>
    <dynamics damping="0.0" friction="0.0"/>
  </joint>
  <joint name="left_w0_fixed" type="fixed">
    <origin rpy="1.571 0 1.571" xyz="0.088 0 0"/>
    <axis xyz="0 0 1"/>
    <parent link="left_lower_elbow"/>
    <child link="left_upper_forearm_visual"/>
  </joint>
  <joint name="left_w0_to_itb_fixed" type="fixed">
    <!-- <origin xyz="-0.0565 0 0.1301" rpy="-1.571 0 1.571" /> -->
    <origin rpy="-1.571 0 1.571" xyz="-0.0565 0 0.12"/>
    <axis xyz="0 0 1"/>
    <parent link="left_upper_forearm"/>
    <child link="left_arm_itb"/>
  </joint>
  <joint name="left_w1" type="revolute">
    <origin rpy="-1.571 -1.571 0" xyz="0.01 0 0.2707"/>
    <axis xyz="0 0 1"/>
    <parent link="left_upper_forearm"/>
    <child link="left_lower_forearm"/>
    <limit effort="20.0" lower="-1.571" upper="2.094" velocity="5.0"/>
    <dynamics damping="0.0" friction="0.0"/>
  </joint>
  <joint name="left_w1_fixed" type="fixed">
    <origin rpy="-1.571 -1.571 0" xyz="0.01 0 0.27186"/>
    <axis xyz="0 0 1"/>
    <parent link="left_upper_forearm"/>
    <child link="left_lower_forearm_highspeed_collision"/>
  </joint>
  <joint name="left_w2" type="revolute">
    <origin rpy="1.571 0 1.571" xyz="0.115975 0 0"/>
    <axis xyz="0 0 1"/>
    <parent link="left_lower_forearm"/>
    <child link="left_wrist"/>
    <limit effort="20.0" lower="-3.059" upper="3.059" velocity="5.0"/>
    <dynamics damping="0.0" friction="0.0"/>
  </joint>
  <joint name="left_w2_fixed" type="fixed">
    <origin rpy="1.571 0 1.571" xyz="0.16555 0 0"/>
    <axis xyz="0 0 1"/>
    <parent link="left_lower_forearm"/>
    <child link="left_wrist_highspeed_collision"/>
  </joint>
  <joint name="left_hand" type="fixed">
    <origin rpy="0 0 0" xyz="0 0 0.11355"/>
    <axis xyz="0 0 1"/>
    <parent link="left_wrist"/>
    <child link="left_hand"/>
    <dynamics damping="0.0" friction="0.0"/>
  </joint>
  <joint name="left_hand_camera" type="fixed">
    <origin rpy="0 0 -1.57079633" xyz="0.03825 0.012 0.015355"/>
    <parent link="left_hand"/>
    <child link="left_hand_camera"/>
  </joint>
  <joint name="left_hand_camera_axis" type="fixed">
    <origin rpy="0 0 0" xyz="0.03825 0.012 0.015355"/>
    <parent link="left_hand"/>
    <child link="left_hand_camera_axis"/>
  </joint>
  <joint name="left_hand_range" type="fixed">
    <origin rpy="0 -1.571 -1.571" xyz="0.032 -0.020245 0.0288"/>
    <parent link="left_hand"/>
    <child link="left_hand_range"/>
  </joint>
  <joint name="left_endpoint" type="fixed">
    <origin rpy="0 0 0" xyz="0.0 0 0.05"/>
    <parent link="left_hand"/>
    <child link="left_gripper"/>
  </joint>
</robot>
